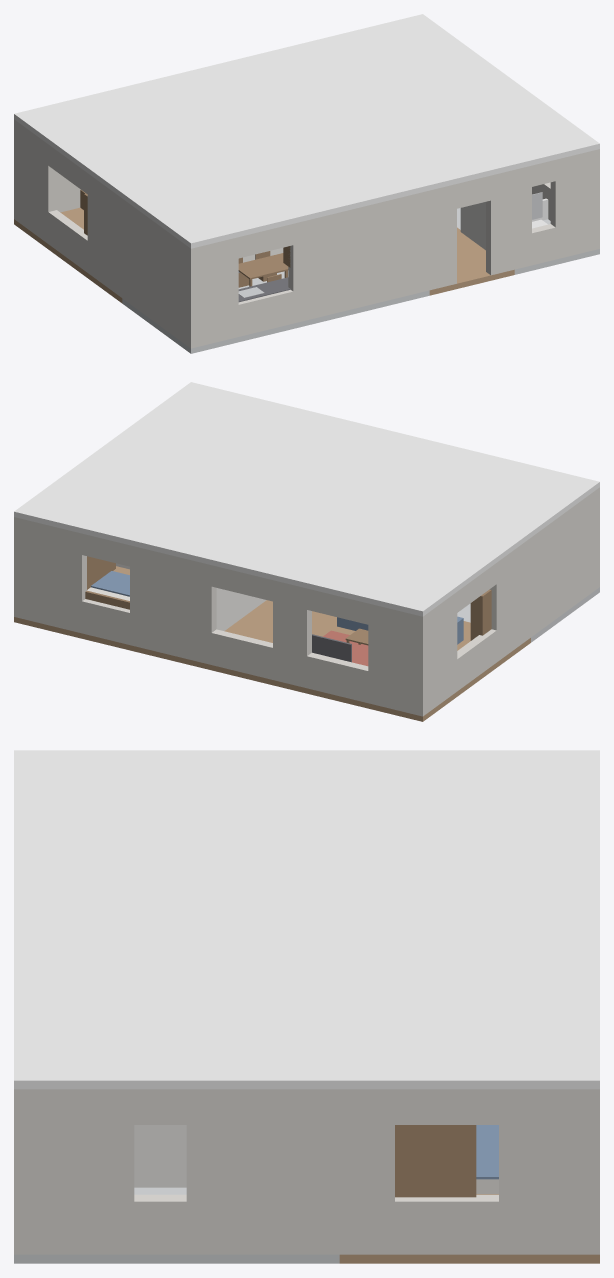
Rendered from Apartment.fbx.
The picture shows the model from 3 angles, top to bottom: view 1: azimuth 30°, elevation 25°; view 2: azimuth 150°, elevation 25°; view 3: azimuth 270°, elevation 25°; orthographic projection. The views are drawn at different scales.
Parts seen in each view (by area): view 1: SM_Apartment_Ceiling, SM_Apartment_Walls, SM_Apartment_Floor, SM_Apartment_Furniture; view 2: SM_Apartment_Ceiling, SM_Apartment_Walls, SM_Apartment_Floor, SM_Apartment_Furniture; view 3: SM_Apartment_Ceiling, SM_Apartment_Walls, SM_Apartment_Furniture, SM_Apartment_Floor.
Part boxes in pixels (left/top/right/bottom): SM_Apartment_Ceiling: left=14, top=14, right=599, bottom=248; SM_Apartment_Walls: left=14, top=119, right=599, bottom=348; SM_Apartment_Floor: left=14, top=207, right=599, bottom=353; SM_Apartment_Furniture: left=80, top=189, right=548, bottom=302; SM_Apartment_Ceiling: left=14, top=382, right=599, bottom=616; SM_Apartment_Walls: left=14, top=487, right=599, bottom=716; SM_Apartment_Floor: left=14, top=566, right=599, bottom=721; SM_Apartment_Furniture: left=85, top=556, right=491, bottom=666; SM_Apartment_Ceiling: left=14, top=750, right=599, bottom=1089; SM_Apartment_Walls: left=14, top=1089, right=599, bottom=1254; SM_Apartment_Furniture: left=395, top=1125, right=498, bottom=1197; SM_Apartment_Floor: left=14, top=1187, right=599, bottom=1263.
Size of the model in its own units: 1200 by 310 by 900.
